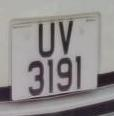1: (71, 53, 84, 94), (45, 56, 57, 97)
3: (24, 54, 48, 99)
9: (53, 55, 75, 95)
U: (37, 19, 58, 60)
V: (56, 18, 77, 59)
